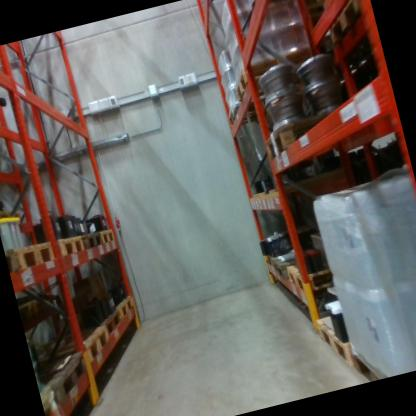pallet: (259, 99, 370, 179), (228, 34, 341, 108), (38, 346, 101, 416), (57, 323, 119, 385), (225, 84, 300, 133), (267, 239, 337, 290), (6, 228, 66, 287), (314, 310, 360, 376), (286, 254, 348, 297), (319, 0, 369, 45), (350, 344, 389, 384), (94, 309, 126, 351), (54, 229, 87, 261), (38, 380, 65, 416), (113, 293, 141, 326), (3, 239, 24, 280), (81, 224, 105, 253), (99, 218, 118, 247)
